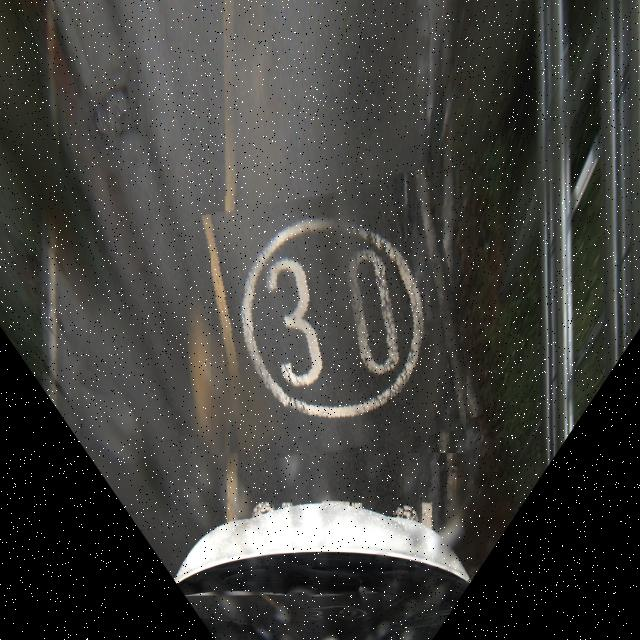30limit: (211, 178, 473, 453)
